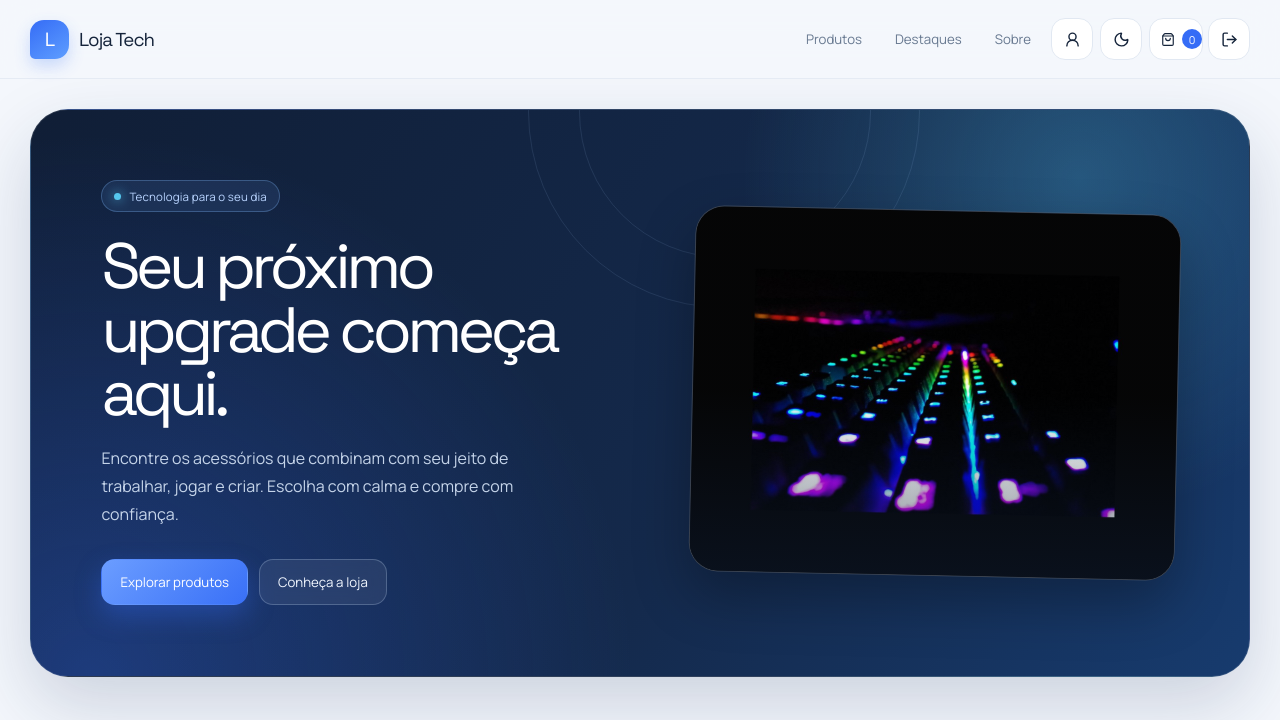
Test case: logout › mantém a sessão quando a confirmação é cancelada
Click the button named "Sair da conta".
click(1229, 39)  # box [1208,18,1250,60]
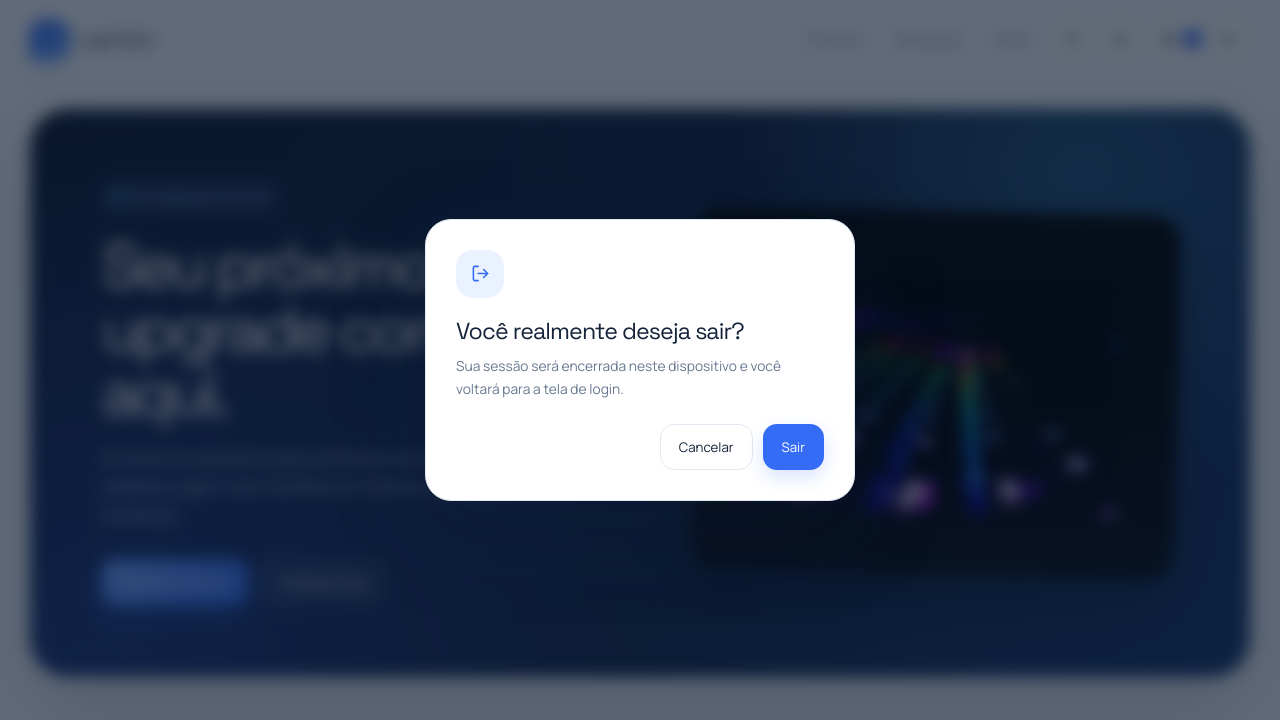
Click the button "Cancelar".
click(706, 447)  # box [660,424,752,470]
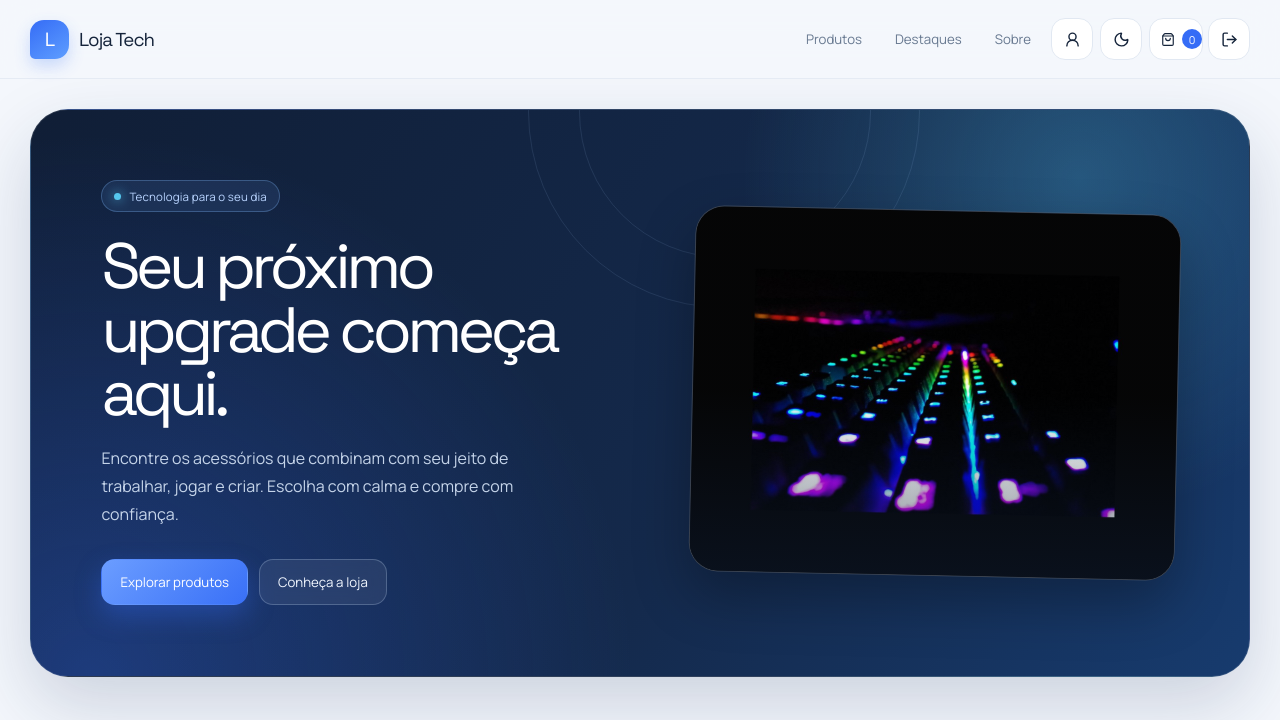
Expected: the button named "Sair da conta" is shown, [1208,18,1250,60]
Result: the dialog is gone
